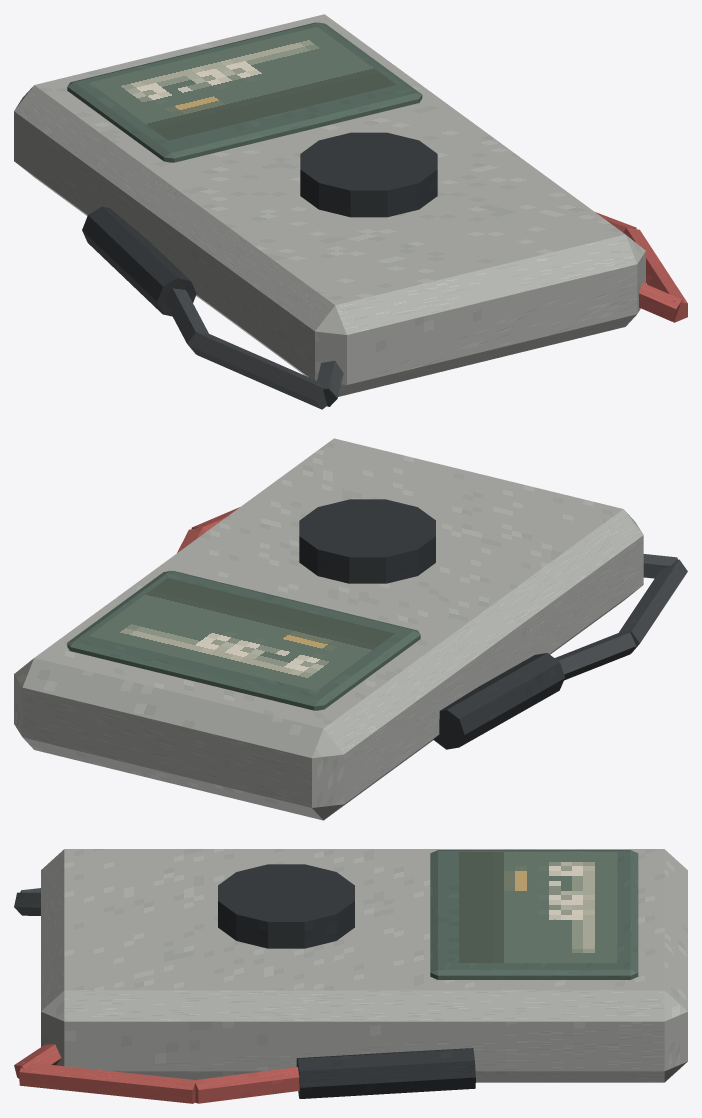
The model's file is multimeter.glb.
3 views of the same model, one above another, from view 1: azimuth 30°, elevation 25°; view 2: azimuth 150°, elevation 25°; view 3: azimuth 270°, elevation 25° (orthographic).
Visible parts, largest first — view 1: block_meter case, block_display markings, block_display, block_selector, block_probe body, block_probe lead 1 (×2), block_probe lead 0 (×2), block_probe lead 2; view 2: block_meter case, block_display markings, block_display, block_selector, block_probe body, block_probe lead 1, block_probe lead 2; view 3: block_meter case, block_display markings, block_selector, block_display, block_probe body, block_probe lead 1, block_probe lead 2, block_probe lead 0 (×2).
Part boxes in pixels (x1,y1,x2,y2): block_meter case: (14,14,645,396); block_display markings: (89,27,396,140); block_display: (67,22,422,162); block_selector: (300,132,437,217); block_probe body: (82,206,196,316); block_probe lead 1 (×2): (190,227,687,409); block_probe lead 0 (×2): (316,283,682,406); block_probe lead 2: (164,288,208,353); block_meter case: (14,438,643,820); block_display markings: (89,578,394,691); block_display: (67,571,420,710); block_selector: (299,499,435,583); block_probe body: (433,653,564,749); block_probe lead 1: (619,559,687,653); block_probe lead 2: (555,632,635,680); block_meter case: (41,849,687,1082); block_display markings: (459,852,617,962); block_selector: (218,864,354,948); block_display: (430,850,638,979); block_probe body: (296,1048,475,1098); block_probe lead 1: (19,1062,196,1103); block_probe lead 2: (194,1067,299,1103); block_probe lead 0 (×2): (14,892,61,1078).
Size of the model in its own units: 0.1997 by 0.0505 by 0.2599.
Materials: 1 (1 with a texture image).
